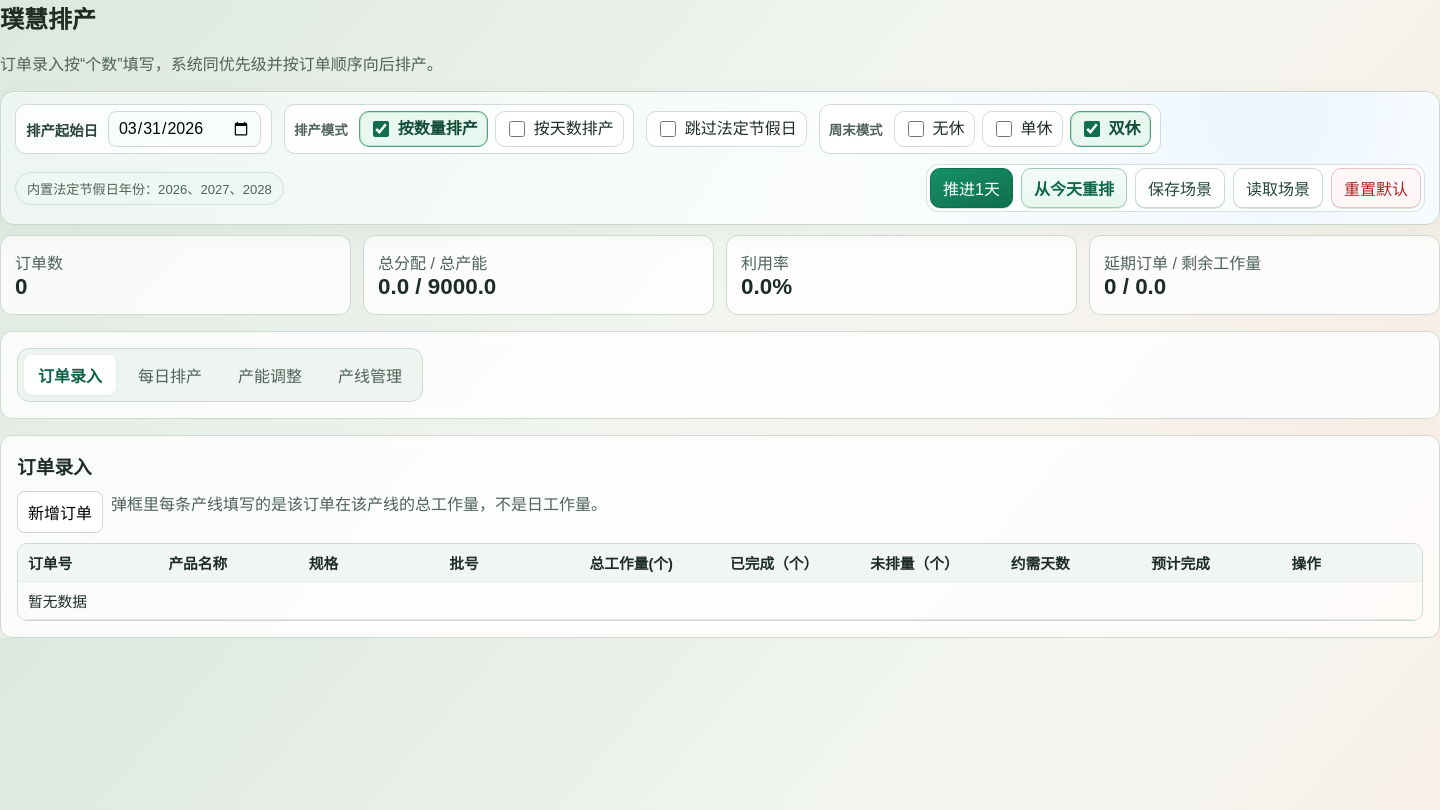
LiteSchedulerPage › renders and opens order modal with all configured lines
Expected: the heading "璞慧排产" is shown, [0, 6, 96, 33]
Click the button with test id "open-order-modal" at (60, 512), box [17, 491, 103, 533]
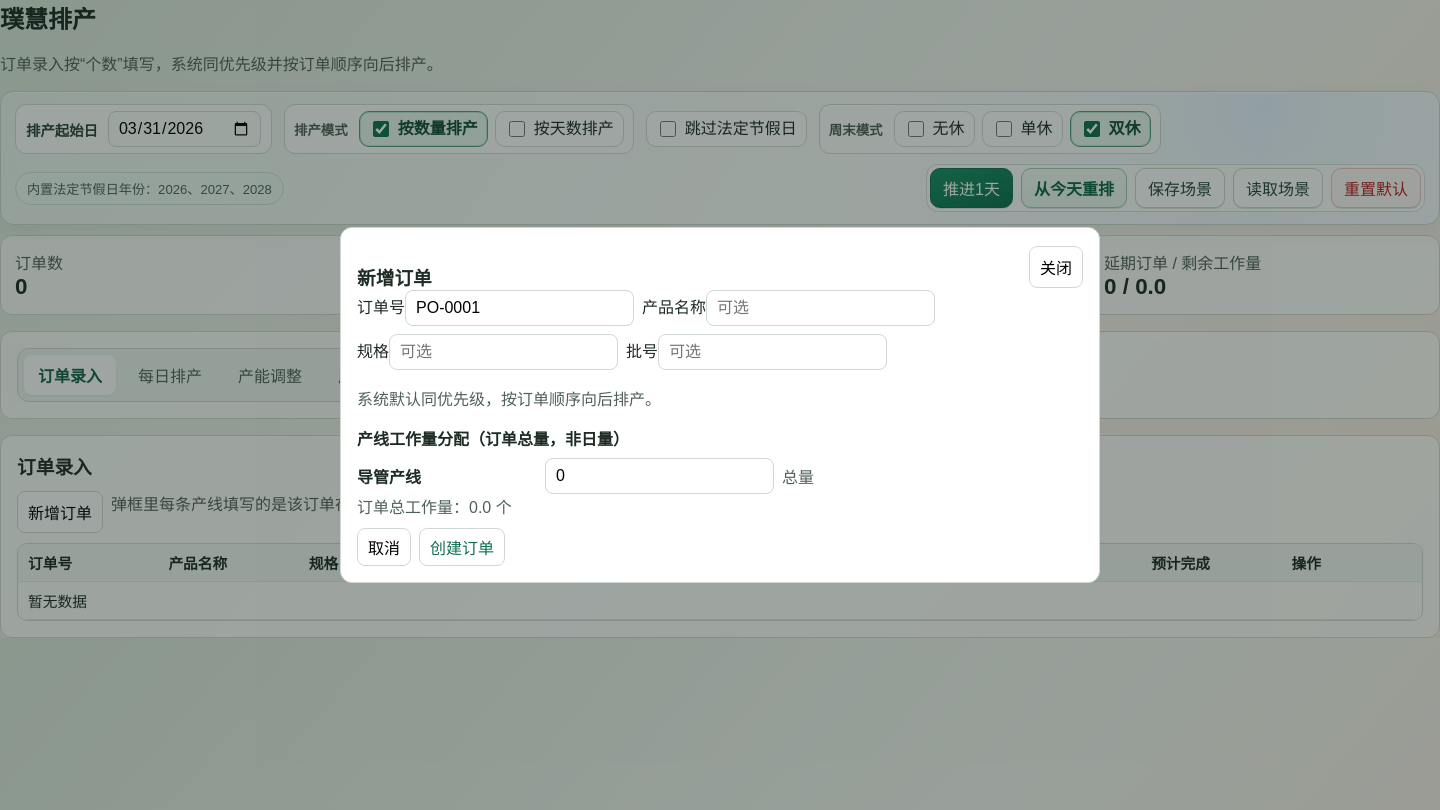
Now the dialog with test id "order-modal" is shown, box [340, 227, 1100, 583]
Now the number field with test id "^order-line-days-" is shown, box [545, 458, 774, 494]
